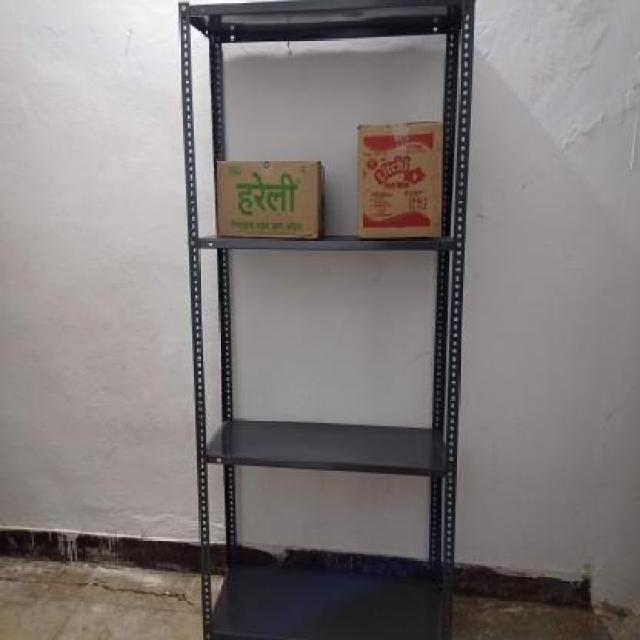box: (356, 122, 444, 241), (215, 159, 321, 241)
